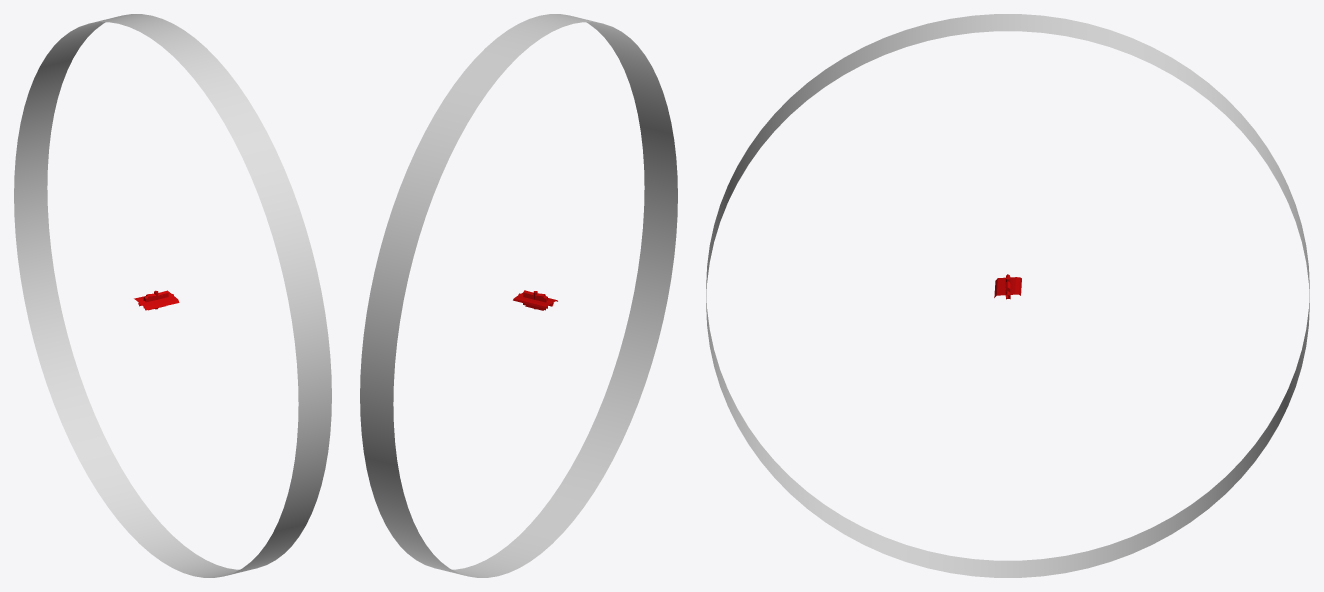
The model's file is Pochti_vse_srazy.fbx.
3 renders of one model, left to right at view 1: azimuth 30°, elevation 25°; view 2: azimuth 150°, elevation 25°; view 3: azimuth 270°, elevation 25°, orthographic. The views are drawn at different scales.
Parts seen in each view (by area): view 1: Cylinder001, Cylinder002; view 2: Cylinder001; view 3: Cylinder001.
Part boxes in pixels (x1=…): Cylinder001: x1=14, y1=14, x2=331, y2=577; Cylinder002: x1=14, y1=27, x2=298, y2=576; Cylinder001: x1=360, y1=14, x2=677, y2=577; Cylinder001: x1=706, y1=14, x2=1309, y2=577.
Bounding box in the file's own units: 1096 × 10735 × 10743.
